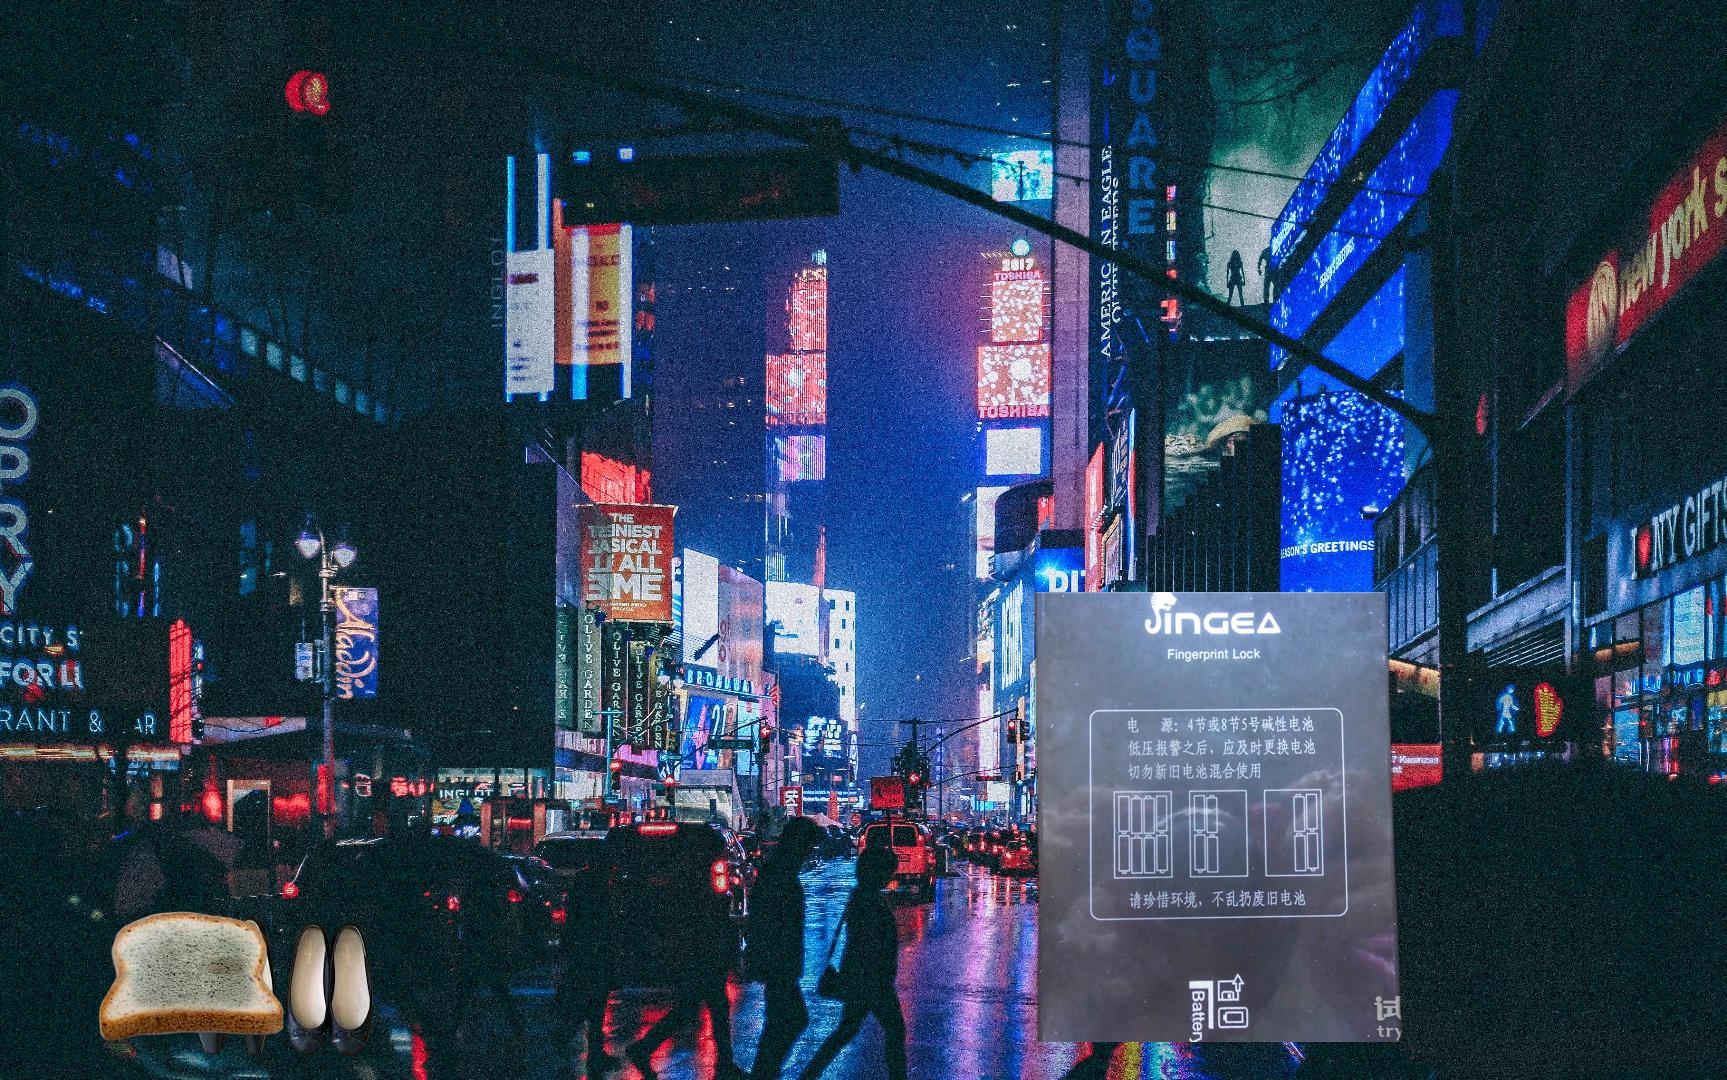battery: (1029, 592, 1408, 1041)
biological: (96, 908, 286, 1044)
shoes: (185, 912, 376, 1059)
